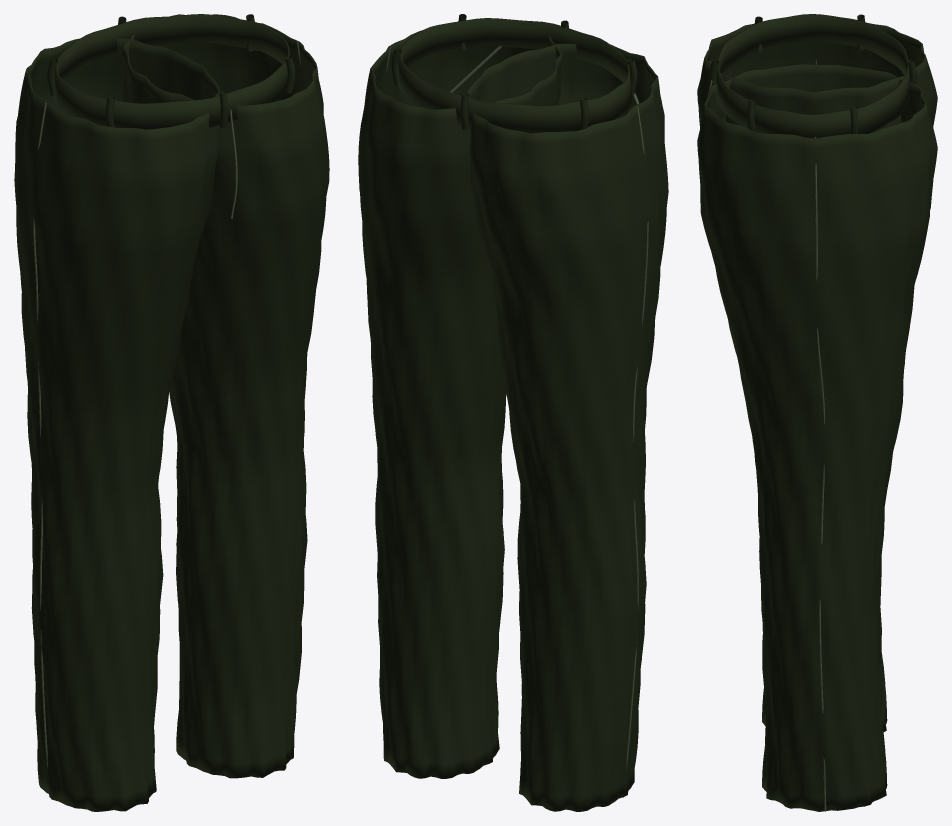
File: bottom-fantasy.glb
The picture shows the model from 3 angles, left to right: view 1: azimuth 30°, elevation 25°; view 2: azimuth 150°, elevation 25°; view 3: azimuth 270°, elevation 25°; orthographic projection. The views are drawn at different scales.
Parts seen in each view (by area): view 1: Trouser leg; view 2: Trouser leg; view 3: Trouser leg.
Part boxes in pixels (left/top/right/bottom): Trouser leg: left=14, top=14, right=329, bottom=811; Trouser leg: left=358, top=14, right=668, bottom=811; Trouser leg: left=697, top=14, right=937, bottom=811.
Size of the model in its own units: 0.401 by 1 by 0.3134.
2 materials, 1 textured.
